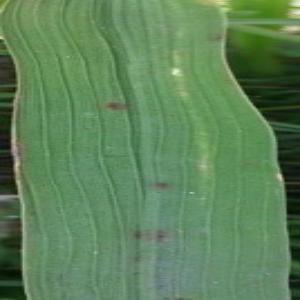Brown_Spot: (102, 95, 134, 115), (145, 174, 171, 194), (204, 28, 227, 49), (126, 225, 148, 245), (151, 227, 171, 245), (128, 249, 146, 266), (151, 282, 171, 292), (130, 269, 144, 279), (159, 294, 173, 300), (176, 295, 188, 300)
